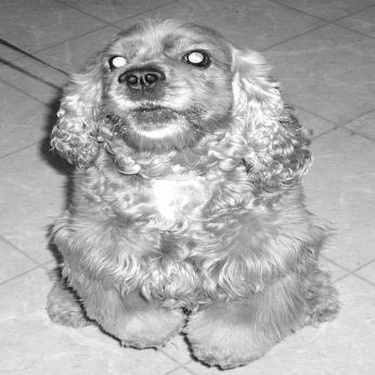dog: (23, 4, 358, 368)
